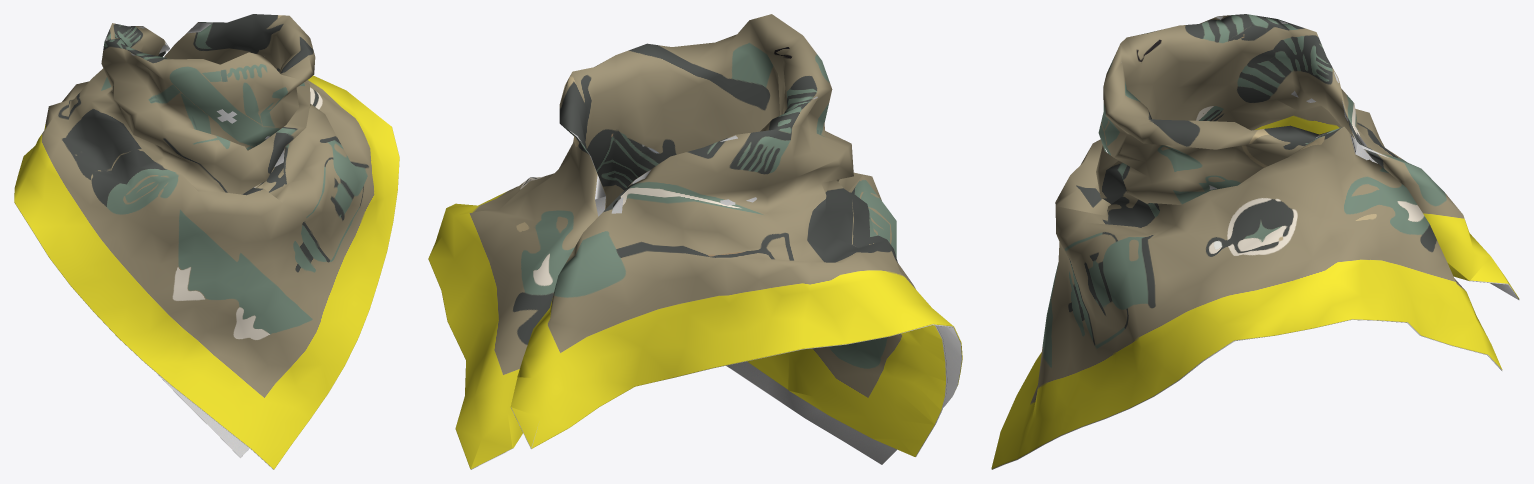
File: hankerchief.fbx
3 views of the same model, side by side, from view 1: azimuth 30°, elevation 25°; view 2: azimuth 150°, elevation 25°; view 3: azimuth 270°, elevation 25° (orthographic). The views are drawn at different scales.
Visible parts, largest first — view 1: MatShape_8160, Pattern2D_9950; view 2: MatShape_8160, MatShape_8163, Pattern2D_9950, MatShape_8166; view 3: MatShape_8160, MatShape_8163, Pattern2D_9950.
Part boxes in pixels (x1,y1,x2,y2): MatShape_8160: (14, 14, 399, 469); Pattern2D_9950: (18, 22, 284, 469); MatShape_8160: (428, 14, 962, 453); MatShape_8163: (455, 324, 945, 469); Pattern2D_9950: (471, 96, 961, 469); MatShape_8166: (483, 353, 944, 448); MatShape_8160: (991, 14, 1491, 469); MatShape_8163: (1441, 217, 1517, 369); Pattern2D_9950: (992, 16, 1518, 469).
Size of the model in its own units: 24.02 by 23.13 by 24.97.
